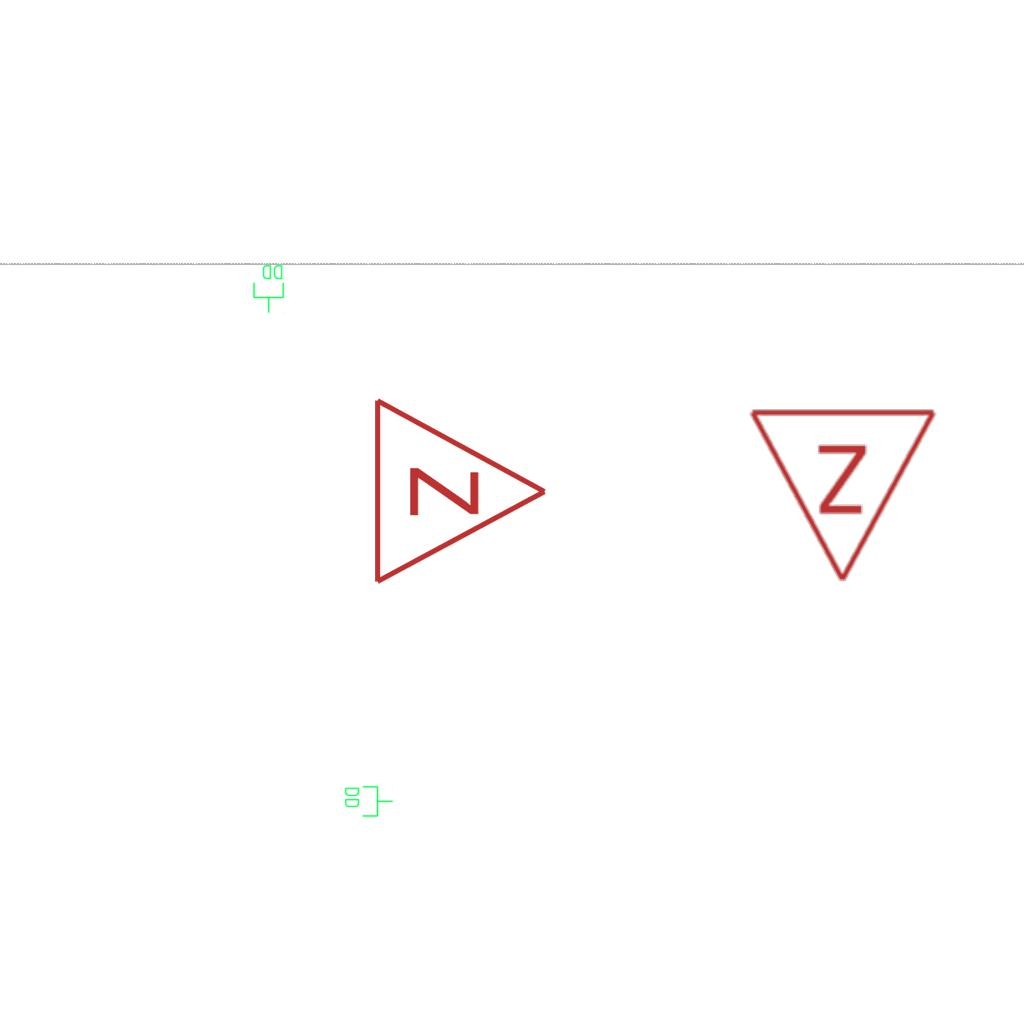Datenanschluss_zweifach: (343, 784, 394, 818), (252, 263, 286, 314)
Zimmersignalleuchte: (360, 391, 560, 587), (747, 395, 943, 595)
